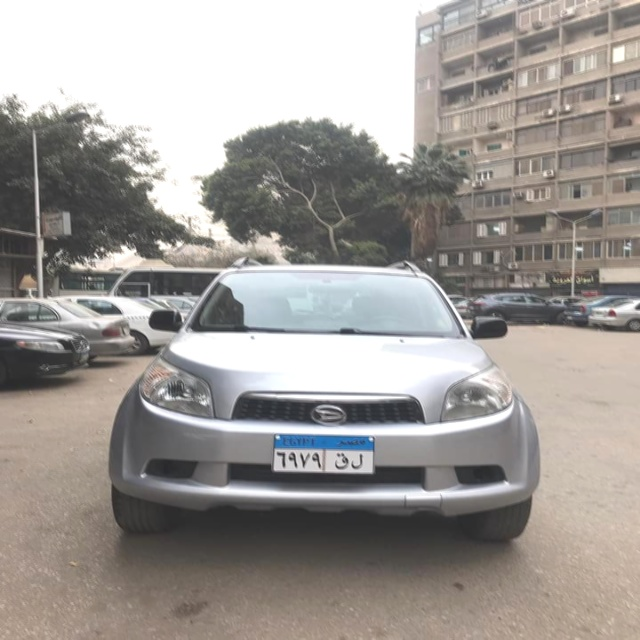License Plate: (269, 432, 377, 475)
